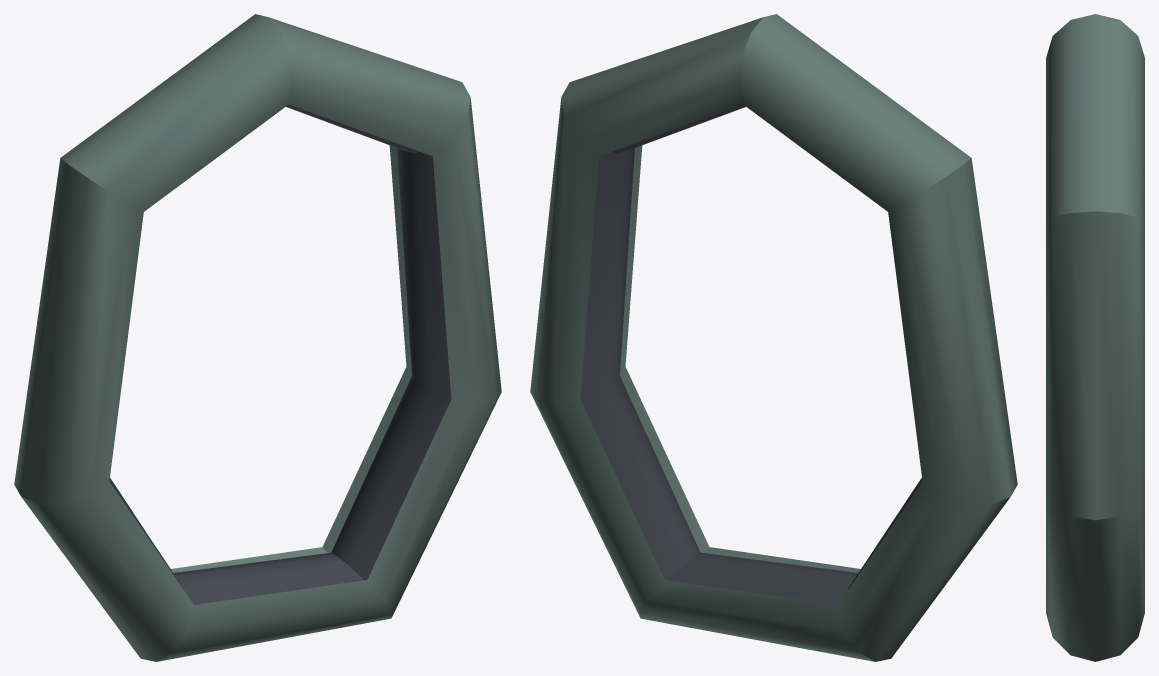
File: Ring_01Simple.fbx
3 views of the same model, side by side, from view 1: azimuth 30°, elevation 25°; view 2: azimuth 150°, elevation 25°; view 3: azimuth 270°, elevation 25° (orthographic). The views are drawn at different scales.
Visible parts, largest first — view 1: Ring_01_simple; view 2: Ring_01_simple; view 3: Ring_01_simple.
Part boxes in pixels (x1,y1,x2,y2): Ring_01_simple: (14,14,501,661); Ring_01_simple: (530,14,1017,661); Ring_01_simple: (1046,14,1144,661).
Size of the model in its own units: 313 by 395 by 59.48.
